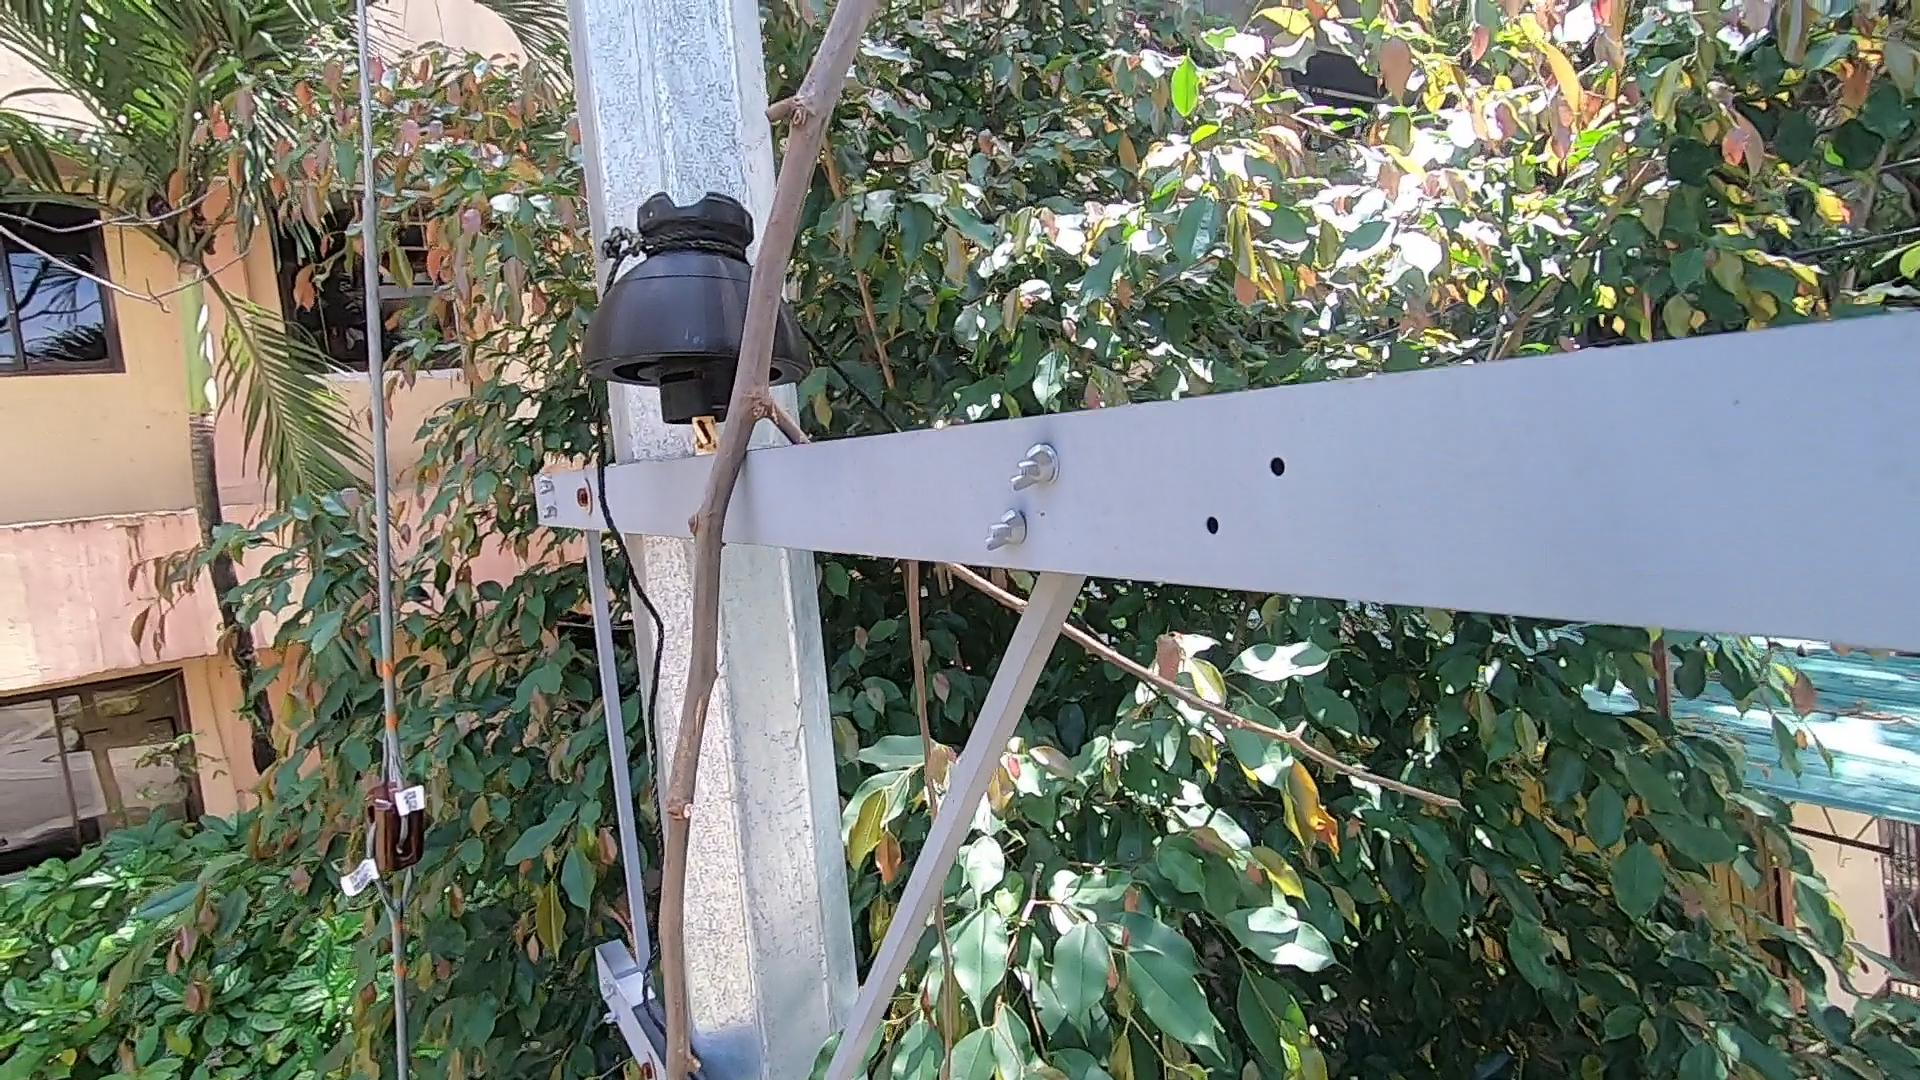tree branch: (632, 3, 837, 1080)
